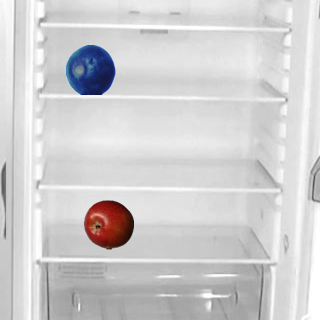Apple Braeburn: (83, 199, 133, 249)
Huckleberry: (65, 44, 115, 94)
